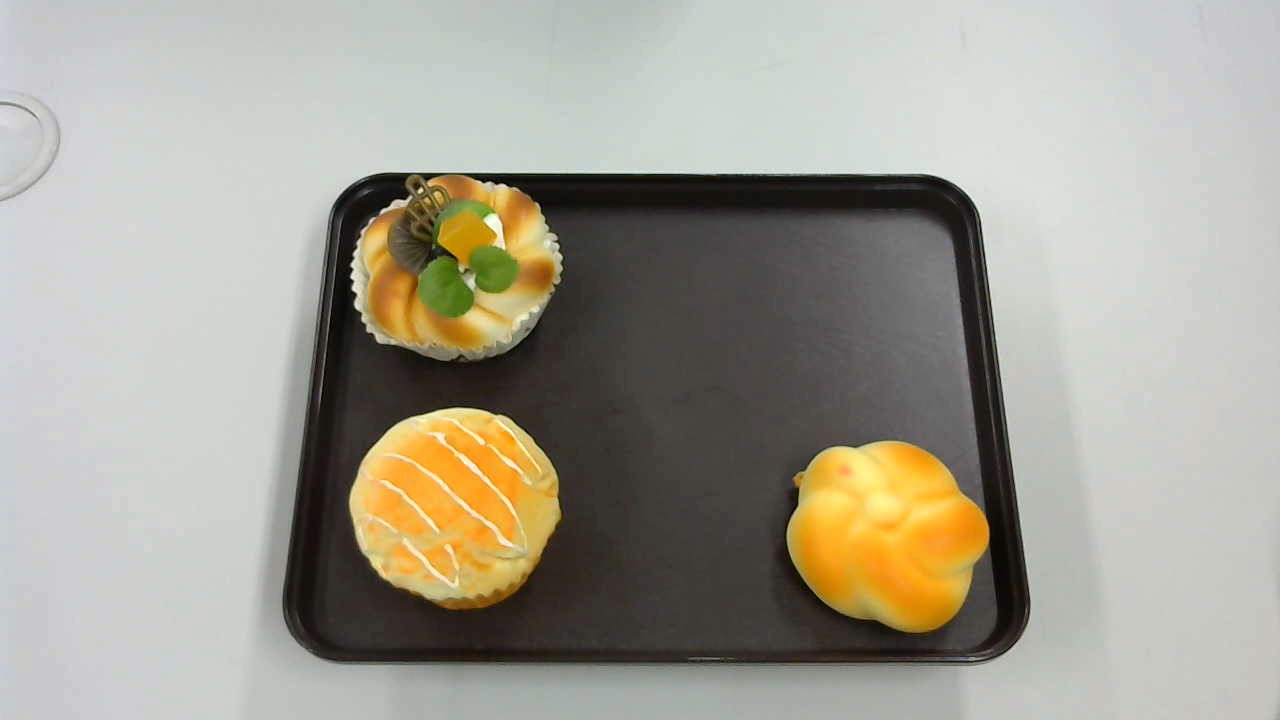croissant: (785, 439, 990, 634)
cupcake: (350, 408, 560, 612)
fruit tart: (348, 175, 564, 365)
